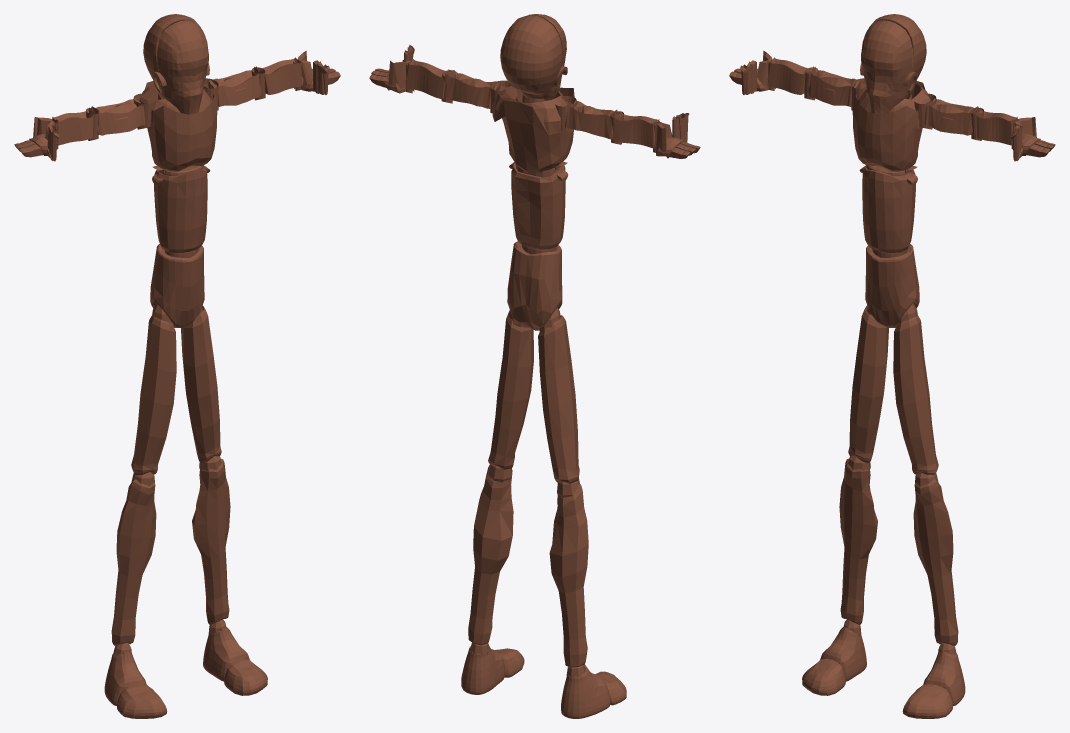
The model's file is 00406ed8-0419-47af-aed4-ef893cad7569.glb.
3 views of the same model, side by side, from view 1: azimuth 30°, elevation 25°; view 2: azimuth 150°, elevation 25°; view 3: azimuth 330°, elevation 25° (orthographic).
Visible parts, largest first — view 1: base_mannequin.glb, base_mannequin.glb_2; view 2: base_mannequin.glb, base_mannequin.glb_2; view 3: base_mannequin.glb, base_mannequin.glb_2.
Part boxes in pixels (bbox=[...]): base_mannequin.glb: bbox=[14, 14, 340, 718]; base_mannequin.glb_2: bbox=[52, 47, 301, 654]; base_mannequin.glb: bbox=[369, 14, 700, 718]; base_mannequin.glb_2: bbox=[406, 60, 659, 676]; base_mannequin.glb: bbox=[729, 14, 1055, 718]; base_mannequin.glb_2: bbox=[768, 47, 1017, 654].
Bounding box in the file's own units: 1.21 × 2.43 × 0.316.
Materials: 3 (3 with a texture image).
